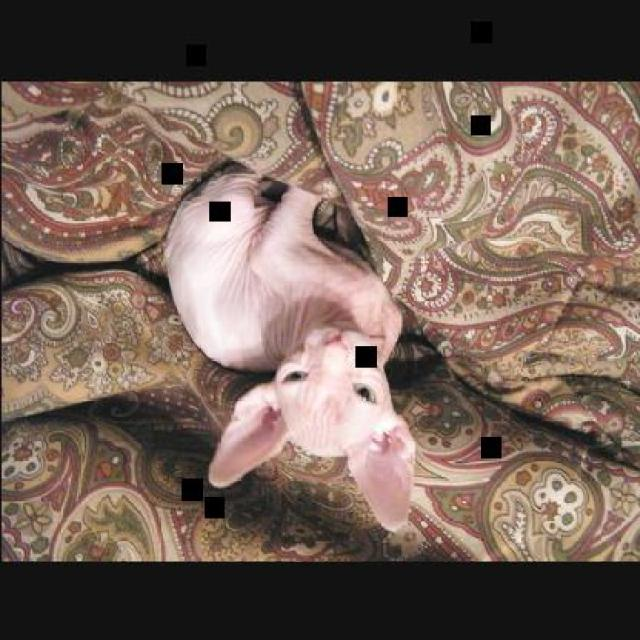unauthorized: (142, 154, 430, 532)
